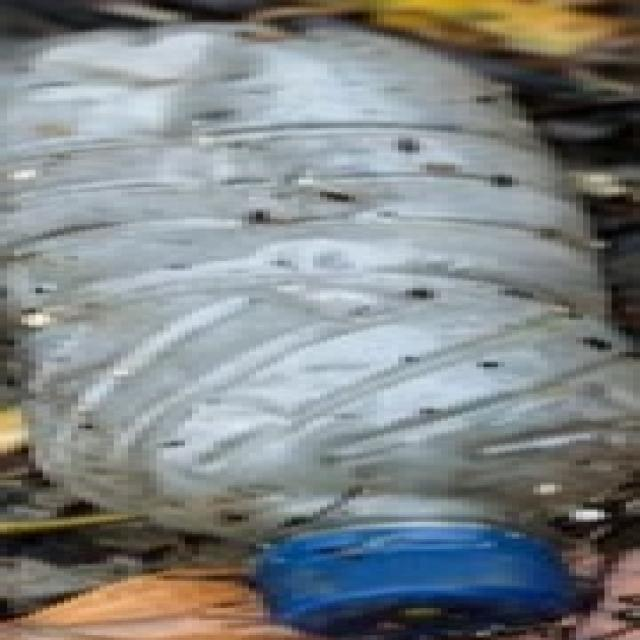plastic bottle: (62, 0, 640, 614)
